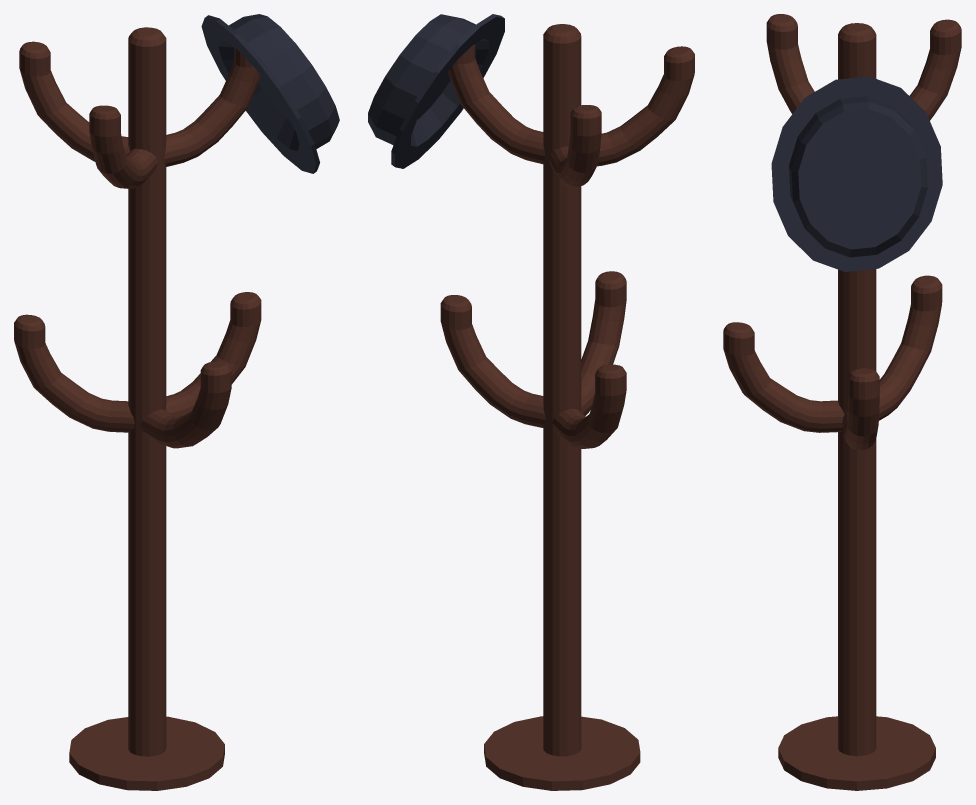
File: Cabideiro.fbx
The picture shows the model from 3 angles, left to right: view 1: azimuth 30°, elevation 25°; view 2: azimuth 150°, elevation 25°; view 3: azimuth 270°, elevation 25°; orthographic projection.
Visible parts, largest first — view 1: Circle, Circle.007, Circle.006, Circle.001, Circle.003, Circle.004, Circle.002, Circle.005; view 2: Circle, Circle.007, Circle.005, Circle.002, Circle.001, Circle.004, Circle.006, Circle.003; view 3: Circle, Circle.007, Circle.004, Circle.006, Circle.003, Circle.002, Circle.005.
Part boxes in pixels (x1,y1,x2,y2): Circle: (69, 27, 224, 790); Circle.007: (201, 14, 339, 173); Circle.006: (14, 314, 134, 432); Circle.001: (164, 47, 260, 166); Circle.003: (19, 41, 129, 161); Circle.004: (140, 361, 231, 448); Circle.002: (89, 105, 157, 188); Circle.005: (166, 292, 261, 417); Circle: (484, 24, 640, 790); Circle.007: (368, 14, 504, 168); Circle.005: (440, 295, 545, 427); Circle.002: (597, 46, 694, 166); Circle.001: (448, 44, 545, 164); Circle.004: (581, 271, 626, 415); Circle.006: (552, 364, 626, 448); Circle.003: (549, 105, 601, 187); Circle: (778, 23, 935, 790); Circle.007: (771, 76, 942, 271); Circle.004: (723, 322, 844, 432); Circle.006: (879, 275, 942, 420); Circle.003: (909, 19, 961, 120); Circle.002: (766, 14, 814, 113); Circle.005: (842, 368, 879, 450).
Bounding box in the file's own units: 80.86 × 204 × 60.27.
